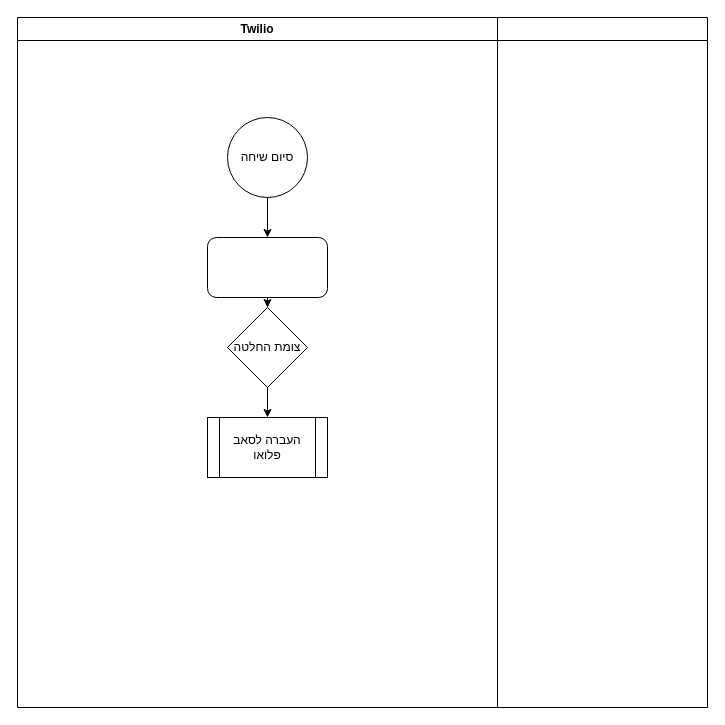
This 725x725 diagram has some shape labels left out. Each missing label, with the centre of its shape:
"CRM" goes at (x=602, y=362).
"מלל" goes at (x=267, y=267).
